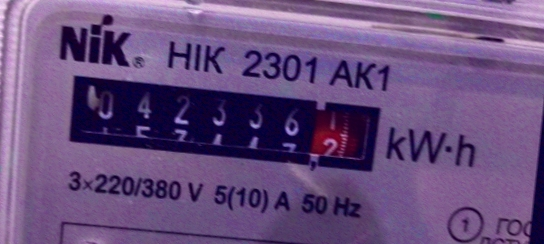0: (93, 86, 116, 121)
1: (324, 105, 338, 132)
2: (169, 90, 194, 126), (318, 135, 337, 158)
3: (206, 93, 228, 127), (245, 97, 266, 131)
4: (134, 86, 154, 120)
6: (280, 103, 303, 139)
screen: (52, 59, 395, 185)
